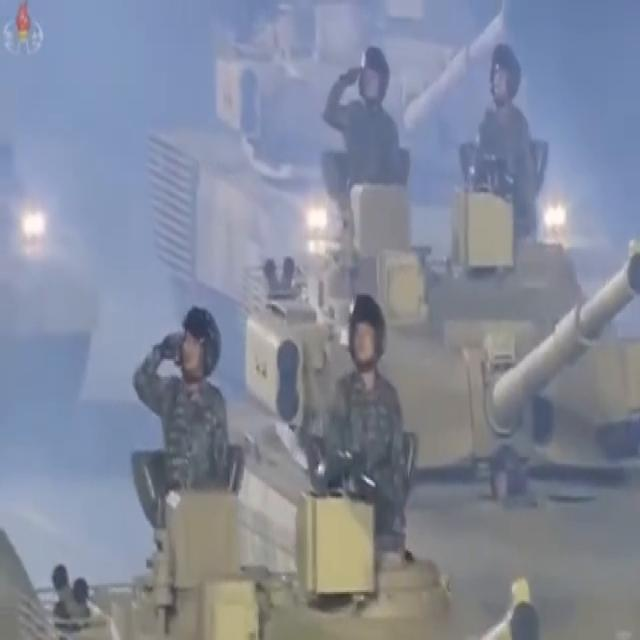north tank: (219, 71, 640, 559), (25, 440, 590, 640)
